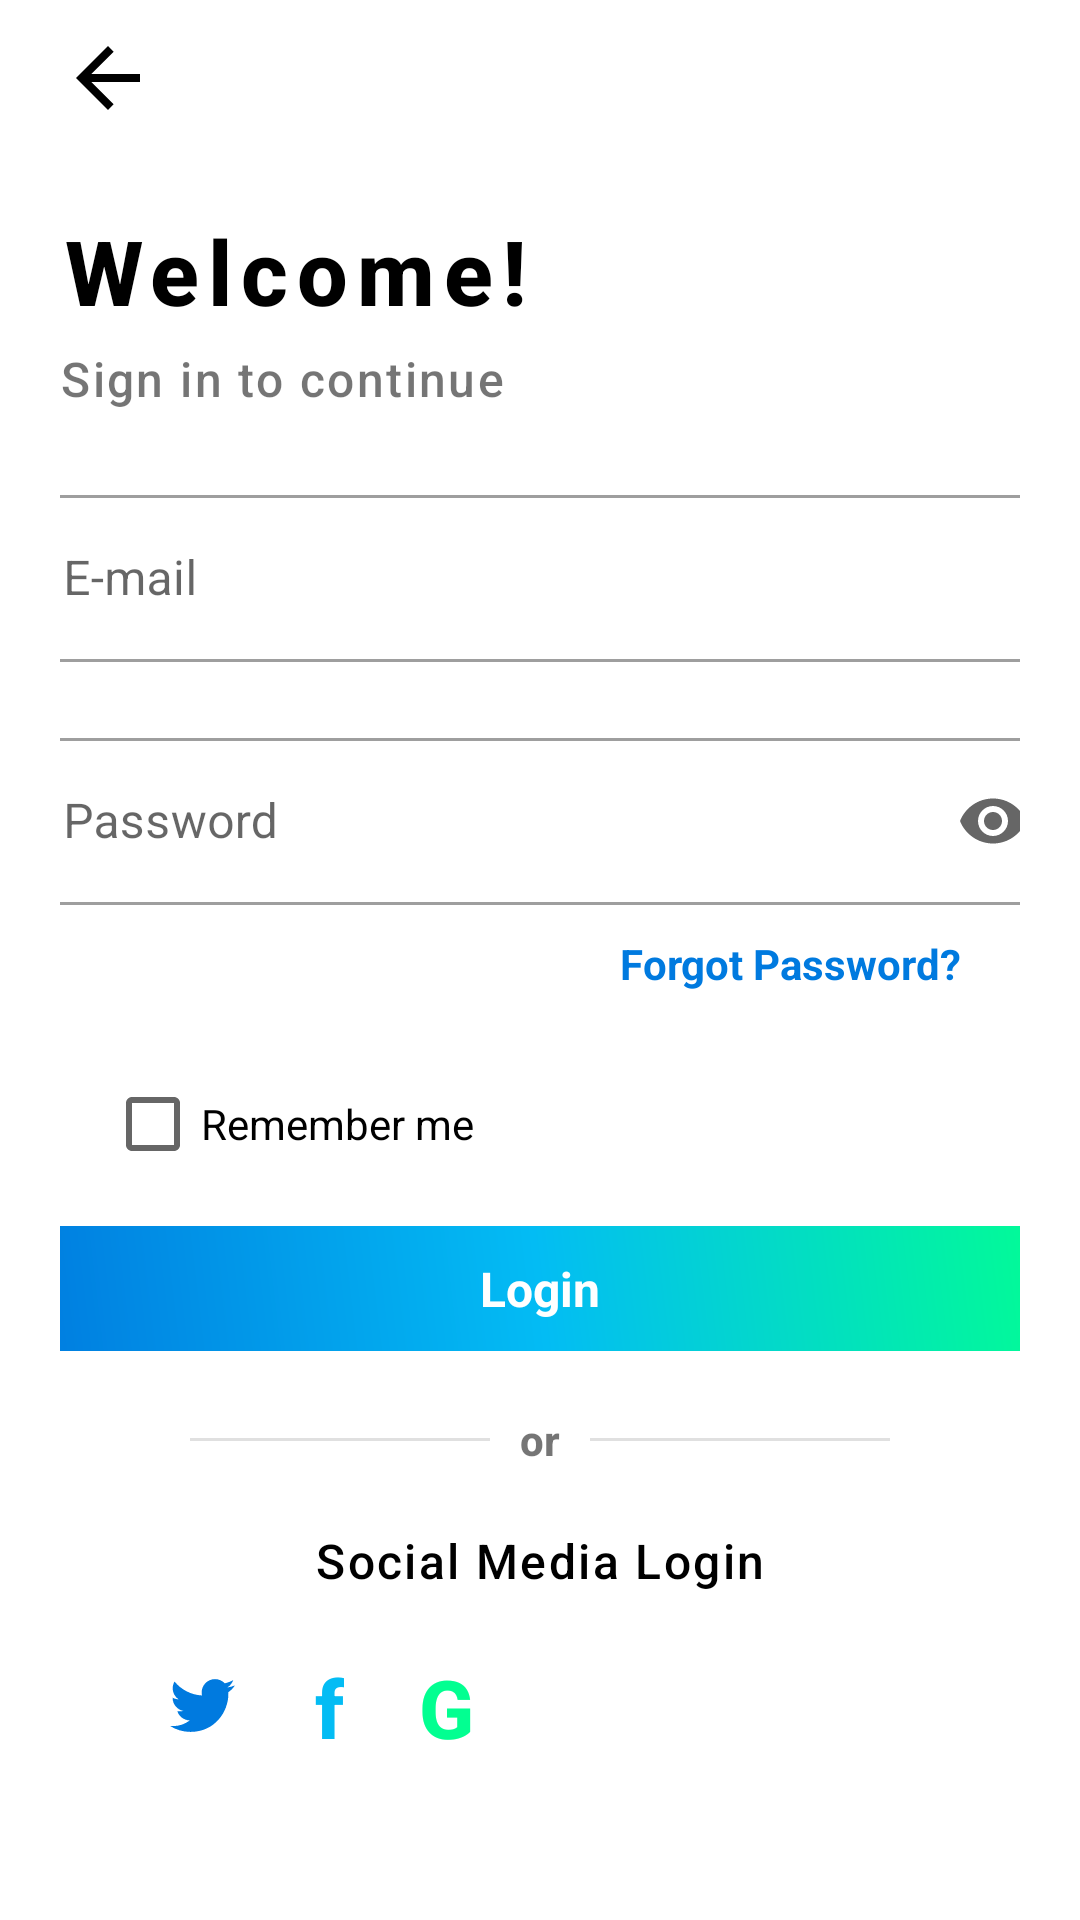

Locate icon controls on the screen. Image size 1080x1920, boxes as (x1, y1, x2, y2).
back arrow: (76, 46, 140, 110)
